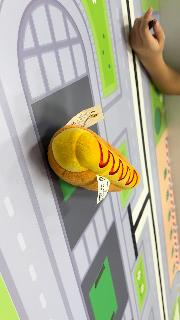hotdog: (47, 124, 141, 194)
